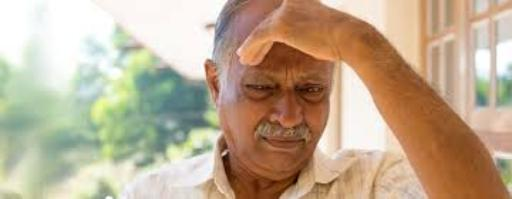left_eye: (299, 83, 325, 95)
right_eye: (247, 80, 273, 94)
